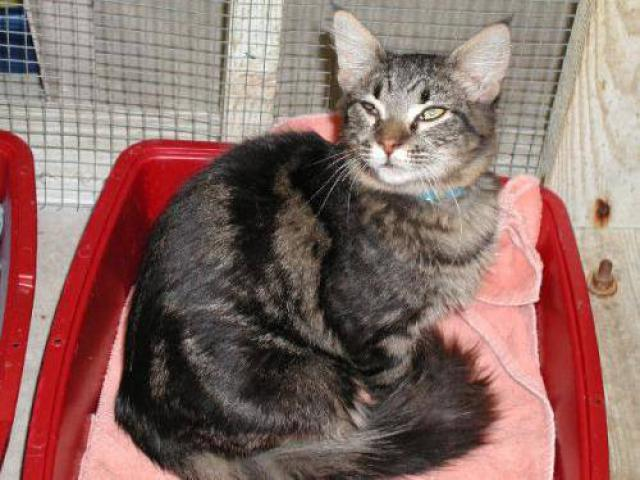cat: (118, 4, 526, 474)
